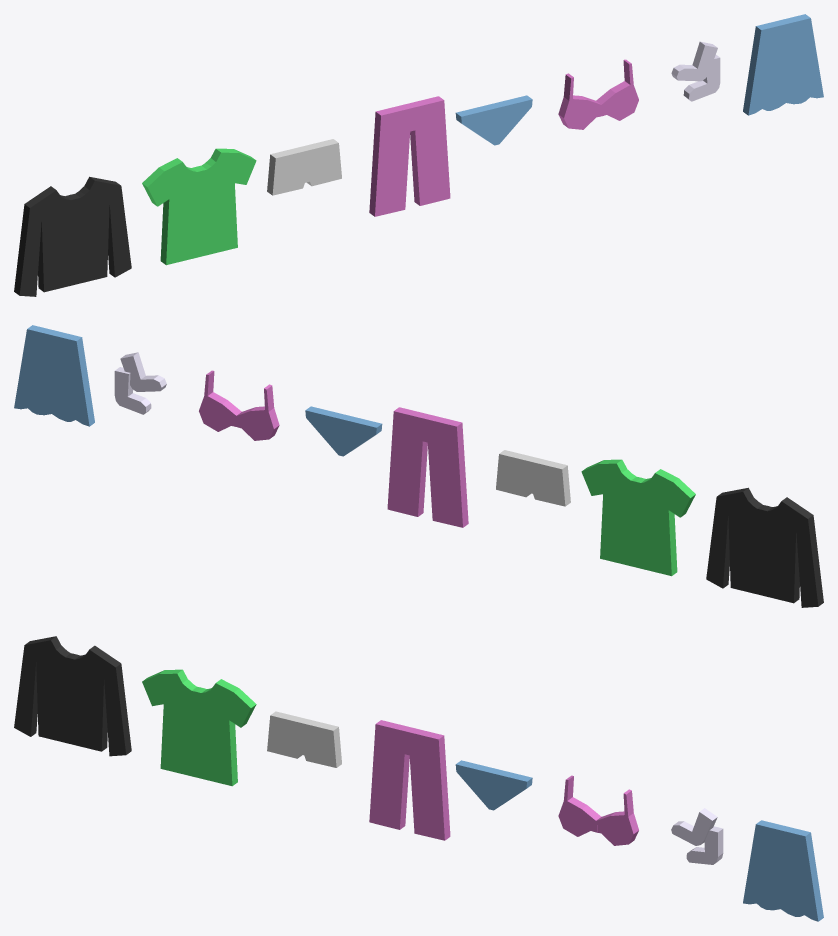
The model's file is LaundryDay_Objects_2.fbx.
3 views of the same model, one above another, from view 1: azimuth 30°, elevation 25°; view 2: azimuth 150°, elevation 25°; view 3: azimuth 330°, elevation 25° (orthographic).
Parts seen in each view (by area): view 1: Item_Clothes_1, Item_Clothes_2, Item_Clothes_4, Item_Clothes_8, Item_Clothes_3, Item_Clothes_6, Item_Clothes_5, Item_Clothes_7_Socks; view 2: Item_Clothes_1, Item_Clothes_2, Item_Clothes_4, Item_Clothes_8, Item_Clothes_3, Item_Clothes_6, Item_Clothes_5, Item_Clothes_7_Socks; view 3: Item_Clothes_1, Item_Clothes_2, Item_Clothes_4, Item_Clothes_8, Item_Clothes_3, Item_Clothes_6, Item_Clothes_5, Item_Clothes_7_Socks.
Boxes of the visible parts, bbox=[...] form: Item_Clothes_1: bbox=[14, 176, 131, 296]; Item_Clothes_2: bbox=[142, 148, 256, 265]; Item_Clothes_4: bbox=[369, 96, 450, 216]; Item_Clothes_8: bbox=[743, 14, 823, 115]; Item_Clothes_3: bbox=[267, 139, 341, 195]; Item_Clothes_6: bbox=[558, 59, 638, 129]; Item_Clothes_5: bbox=[455, 95, 532, 145]; Item_Clothes_7_Socks: bbox=[671, 41, 720, 101]; Item_Clothes_1: bbox=[706, 487, 823, 607]; Item_Clothes_2: bbox=[581, 459, 695, 576]; Item_Clothes_4: bbox=[387, 407, 468, 527]; Item_Clothes_8: bbox=[14, 325, 94, 426]; Item_Clothes_3: bbox=[496, 450, 570, 506]; Item_Clothes_6: bbox=[199, 370, 279, 440]; Item_Clothes_5: bbox=[305, 406, 382, 456]; Item_Clothes_7_Socks: bbox=[114, 352, 166, 414]; Item_Clothes_1: bbox=[14, 636, 131, 756]; Item_Clothes_2: bbox=[142, 669, 256, 786]; Item_Clothes_4: bbox=[369, 720, 450, 840]; Item_Clothes_8: bbox=[743, 820, 823, 921]; Item_Clothes_3: bbox=[267, 711, 341, 767]; Item_Clothes_6: bbox=[558, 775, 638, 845]; Item_Clothes_5: bbox=[455, 760, 532, 810]; Item_Clothes_7_Socks: bbox=[671, 808, 723, 864].
Size of the model in its own units: 764 by 95.04 by 11.77.
